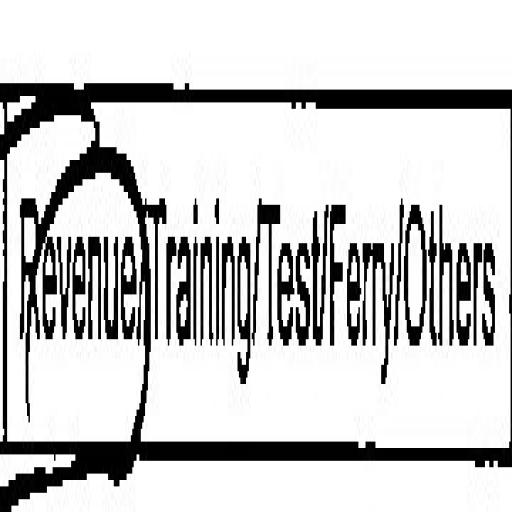check: (0, 9, 147, 512)
